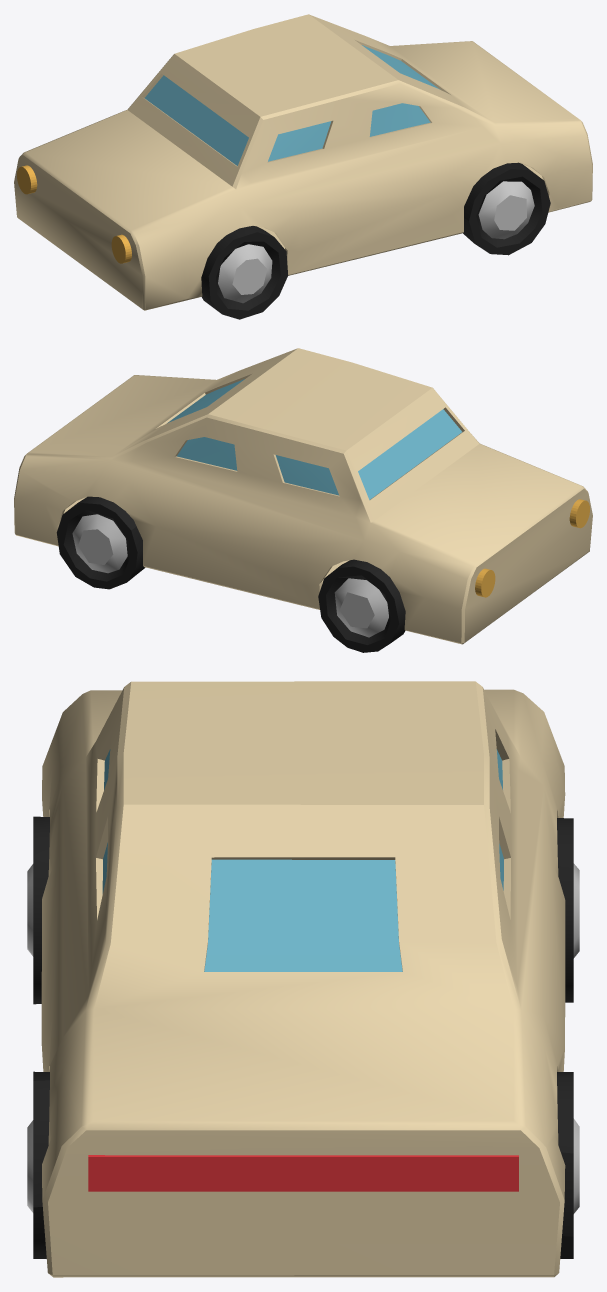
File: Car_h_ready.fbx
3 renders of one model, top to bottom at view 1: azimuth 30°, elevation 25°; view 2: azimuth 150°, elevation 25°; view 3: azimuth 270°, elevation 25°, orthographic. The views are drawn at different scales.
Parts seen in each view (by area): view 1: Cube, Cylinder, Cylinder.001, Cylinder.004, Cylinder.005; view 2: Cube, Cylinder.002, Cylinder.003, Cylinder.005, Cylinder.004; view 3: Cube, Cube.001, Cylinder.003, Cylinder.001, Cylinder, Cylinder.002.
Boxes of the visible parts, <box> form: Cube: <box>14,14,592,310</box>; Cylinder: <box>201,226,288,319</box>; Cylinder.001: <box>463,162,550,255</box>; Cylinder.004: <box>111,234,131,263</box>; Cylinder.005: <box>17,165,37,194</box>; Cube: <box>14,348,592,644</box>; Cylinder.002: <box>318,559,405,652</box>; Cylinder.003: <box>56,496,145,589</box>; Cylinder.005: <box>475,568,495,597</box>; Cylinder.004: <box>569,499,589,528</box>; Cube: <box>41,681,565,1277</box>; Cube.001: <box>88,1155,518,1191</box>; Cylinder.003: <box>557,1072,579,1258</box>; Cylinder.001: <box>27,1071,49,1258</box>; Cylinder: <box>27,816,49,1004</box>; Cylinder.002: <box>557,818,579,1002</box>.
Size of the model in its own units: 708 by 265 by 369.
